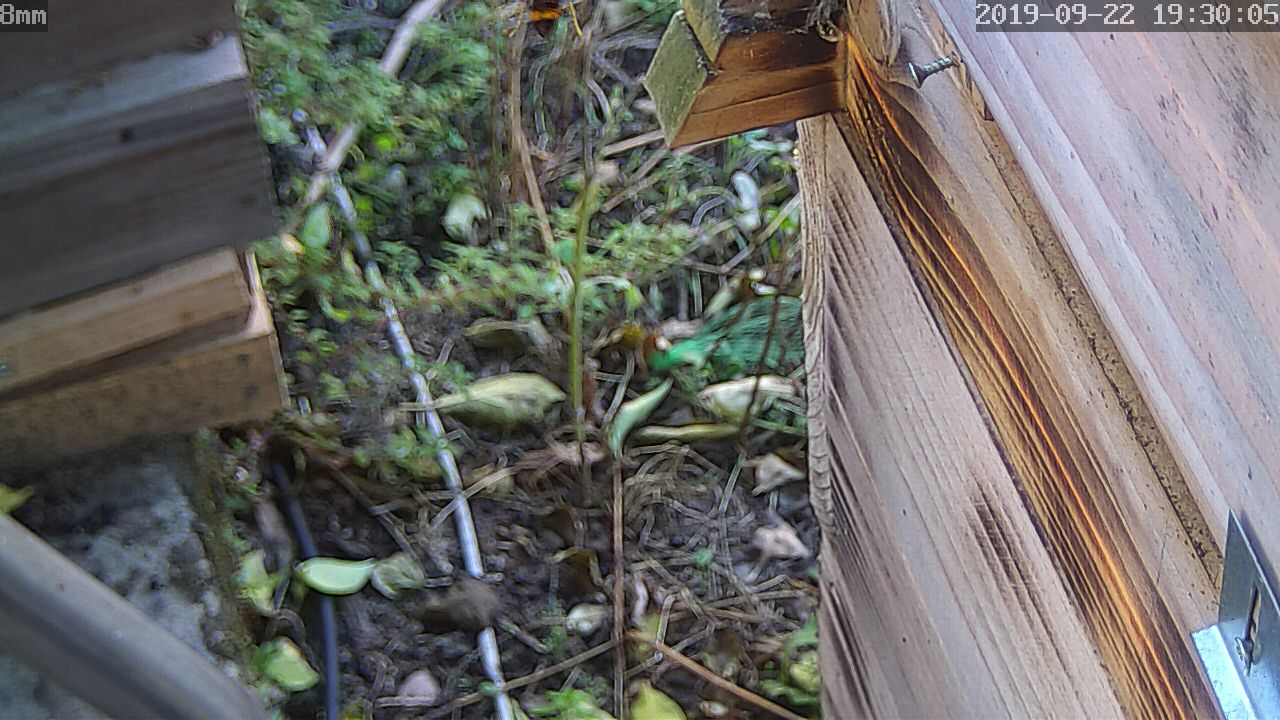hornet: (497, 1, 596, 46)
